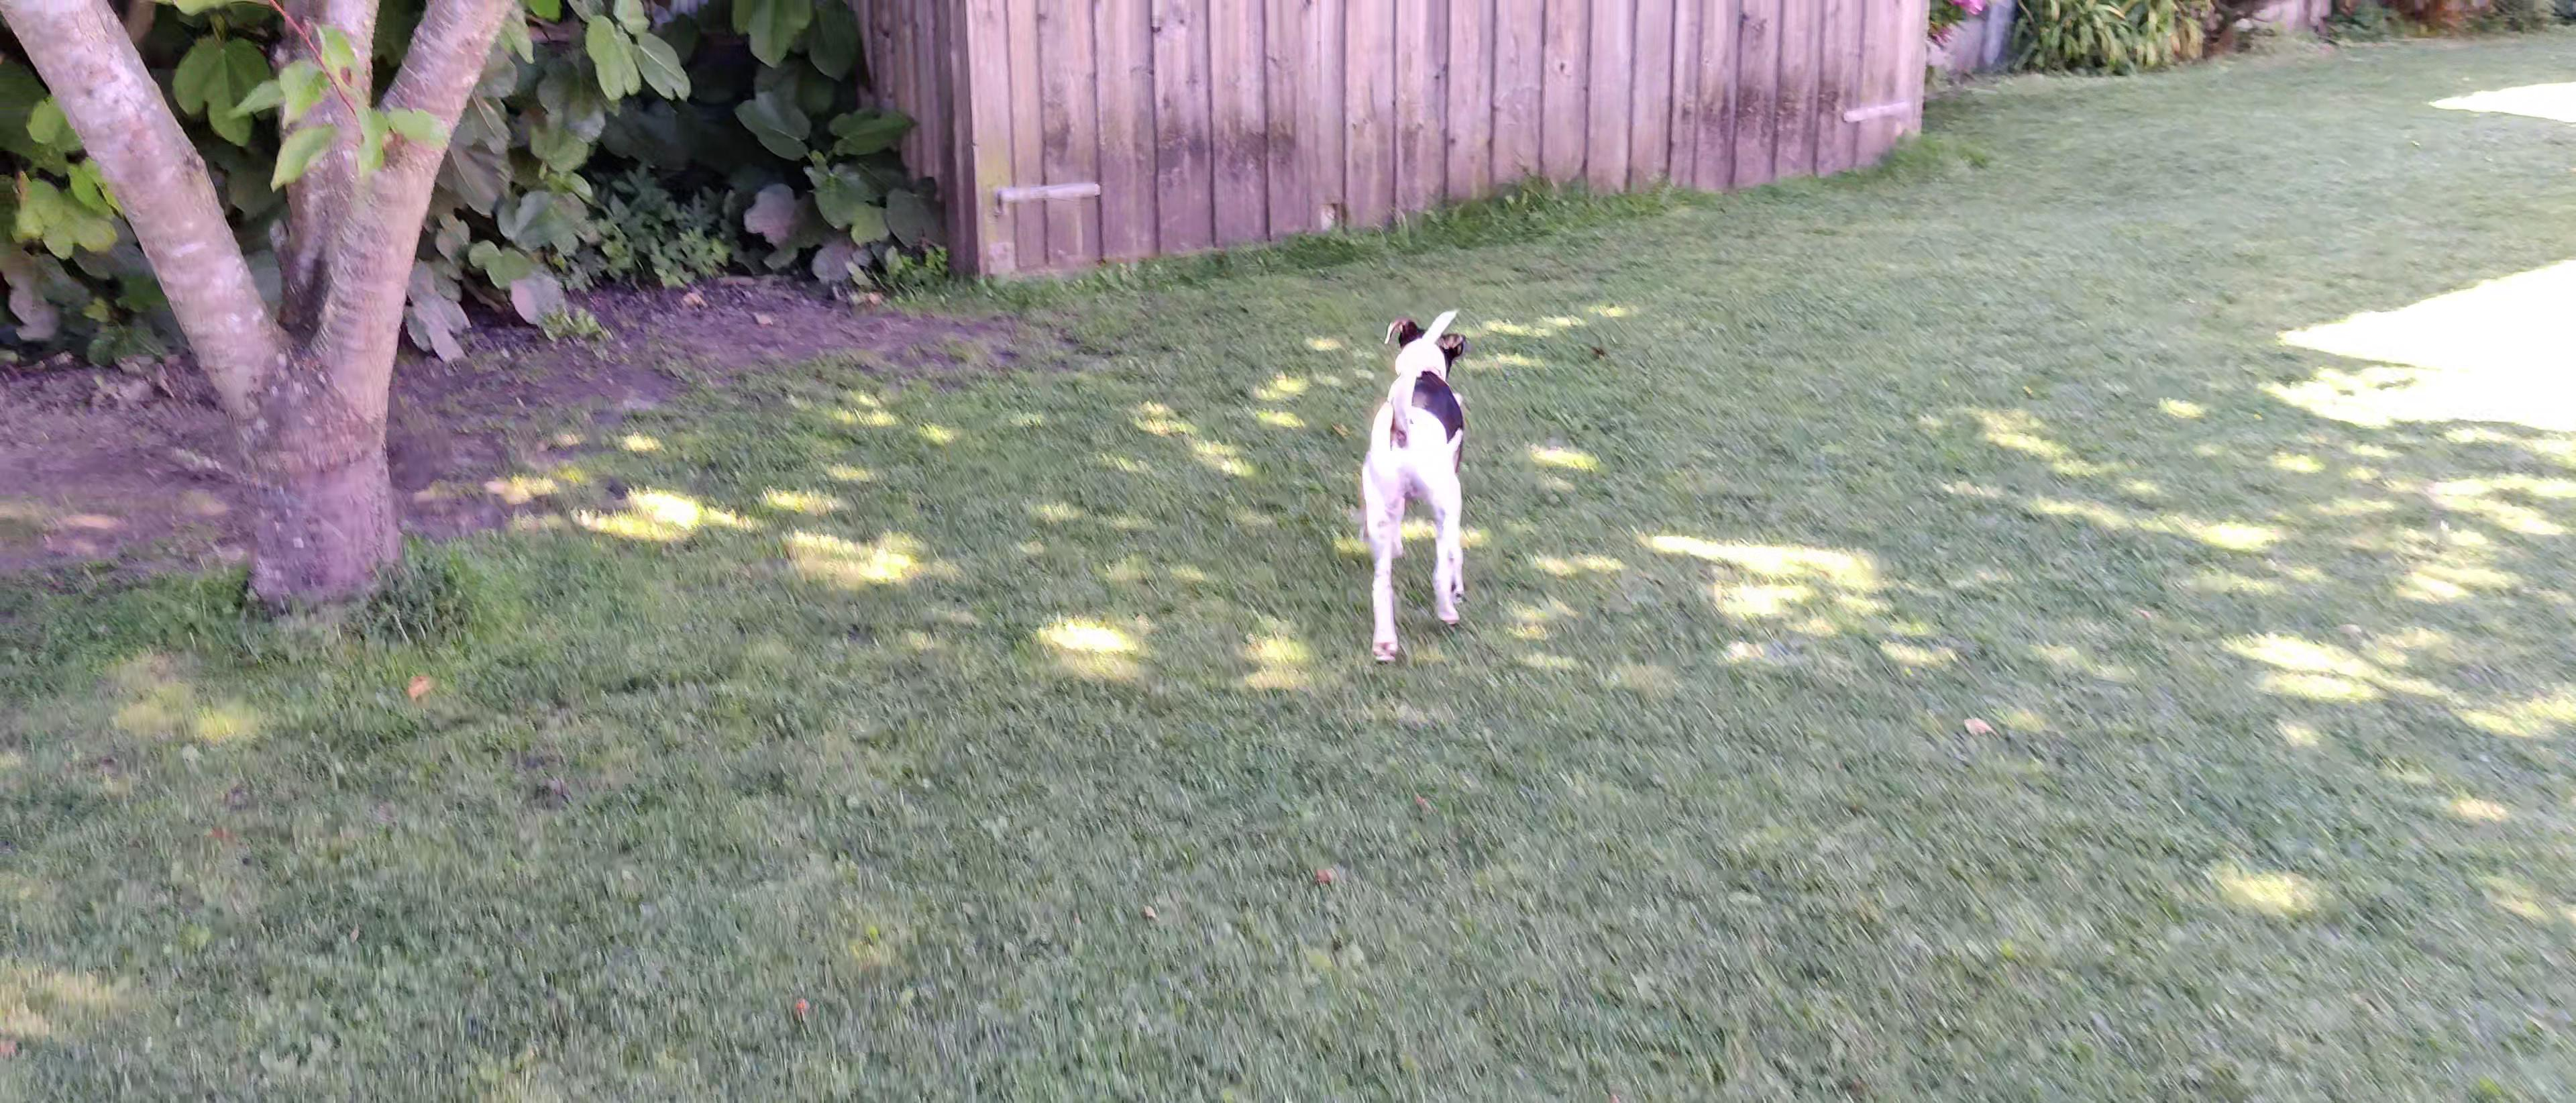Dog: (1350, 299, 1485, 672)
